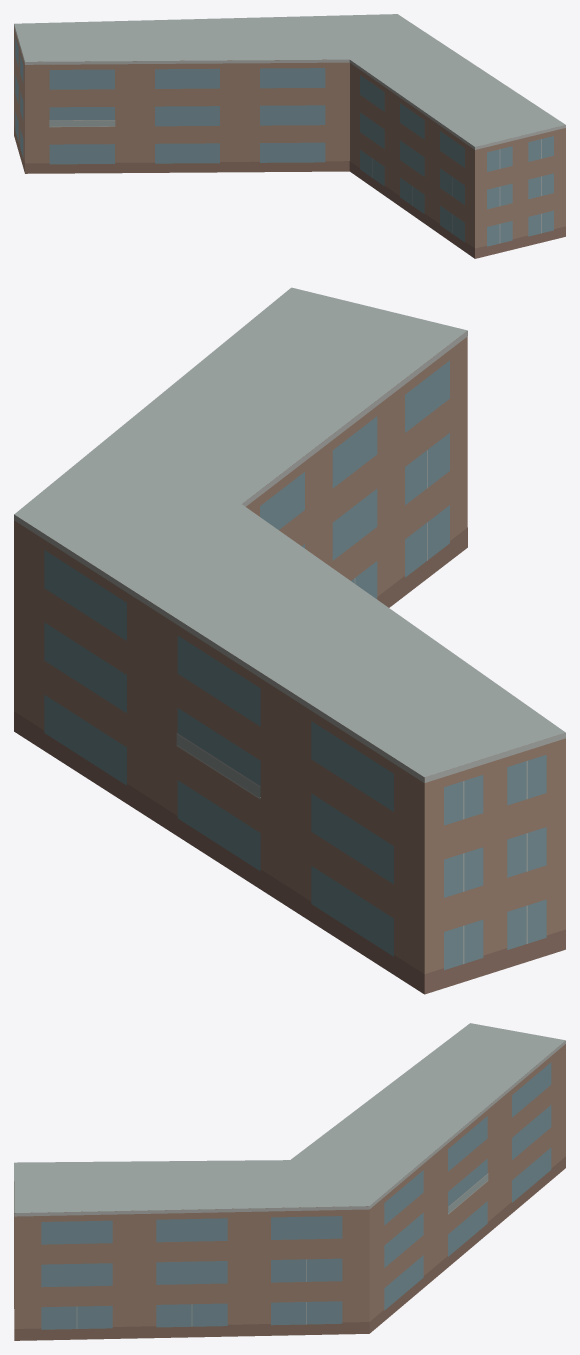
Rendered from survey-upis-32659567.glb.
The picture shows the model from 3 angles, top to bottom: view 1: azimuth 30°, elevation 25°; view 2: azimuth 150°, elevation 25°; view 3: azimuth 270°, elevation 25°; orthographic projection. The views are drawn at different scales.
Visible parts, largest first — view 1: survey-upis-32659567.tmp; view 2: survey-upis-32659567.tmp; view 3: survey-upis-32659567.tmp.
Part boxes in pixels (box(x1,y1,x2,y2)): survey-upis-32659567.tmp: box(14, 14, 565, 258); survey-upis-32659567.tmp: box(14, 287, 565, 994); survey-upis-32659567.tmp: box(14, 1023, 565, 1340).
Bounding box in the file's own units: 29.21 × 9.15 × 35.83.
